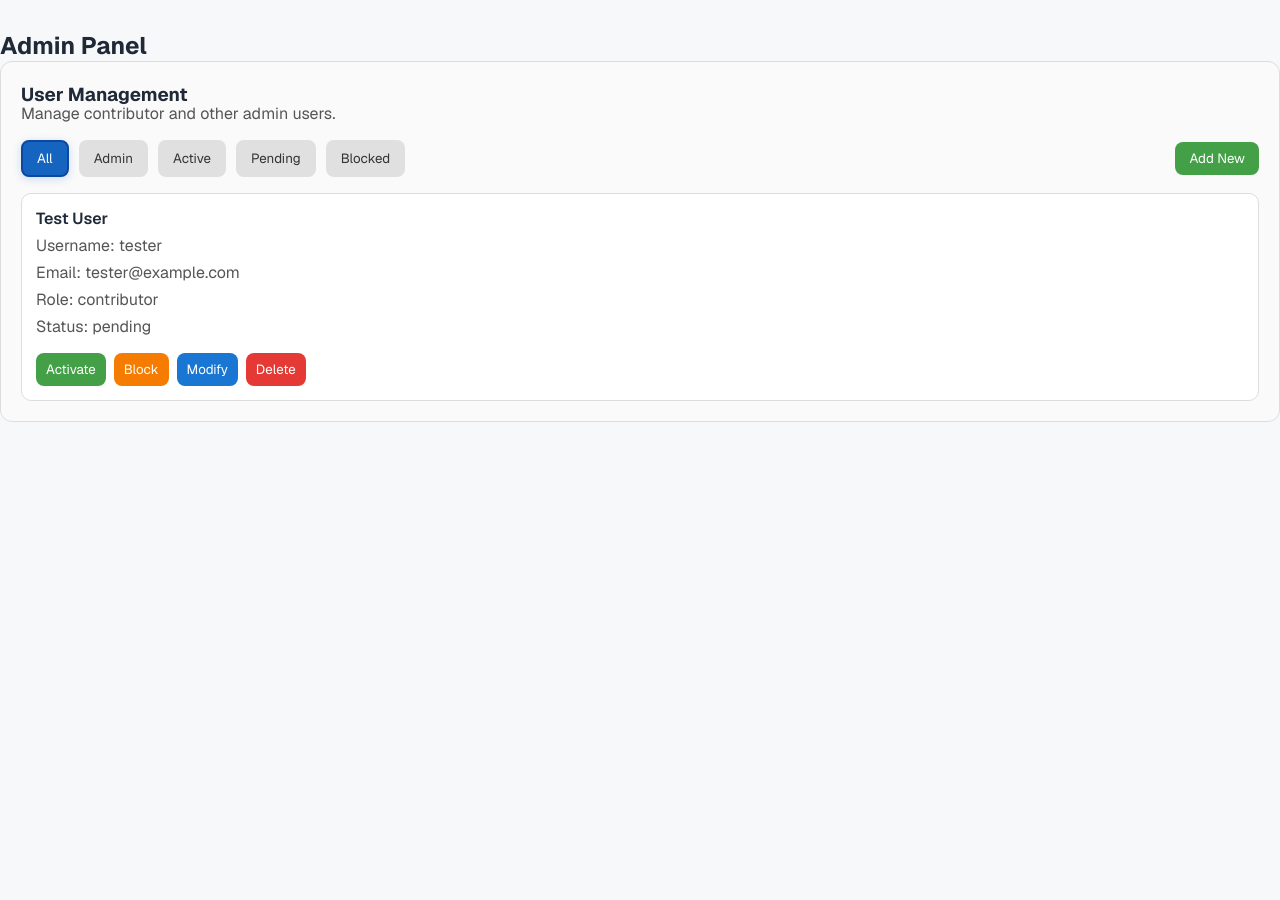
Test: AdminPanel collection controls › renders activate, deactivate, modify, and delete controls for users
Expected: the button "Activate" is shown, [36,353,106,386]
Expected: the button "Block" is shown, [114,353,169,386]
Click the button "Modify" at (207,370), box [177,353,238,386]
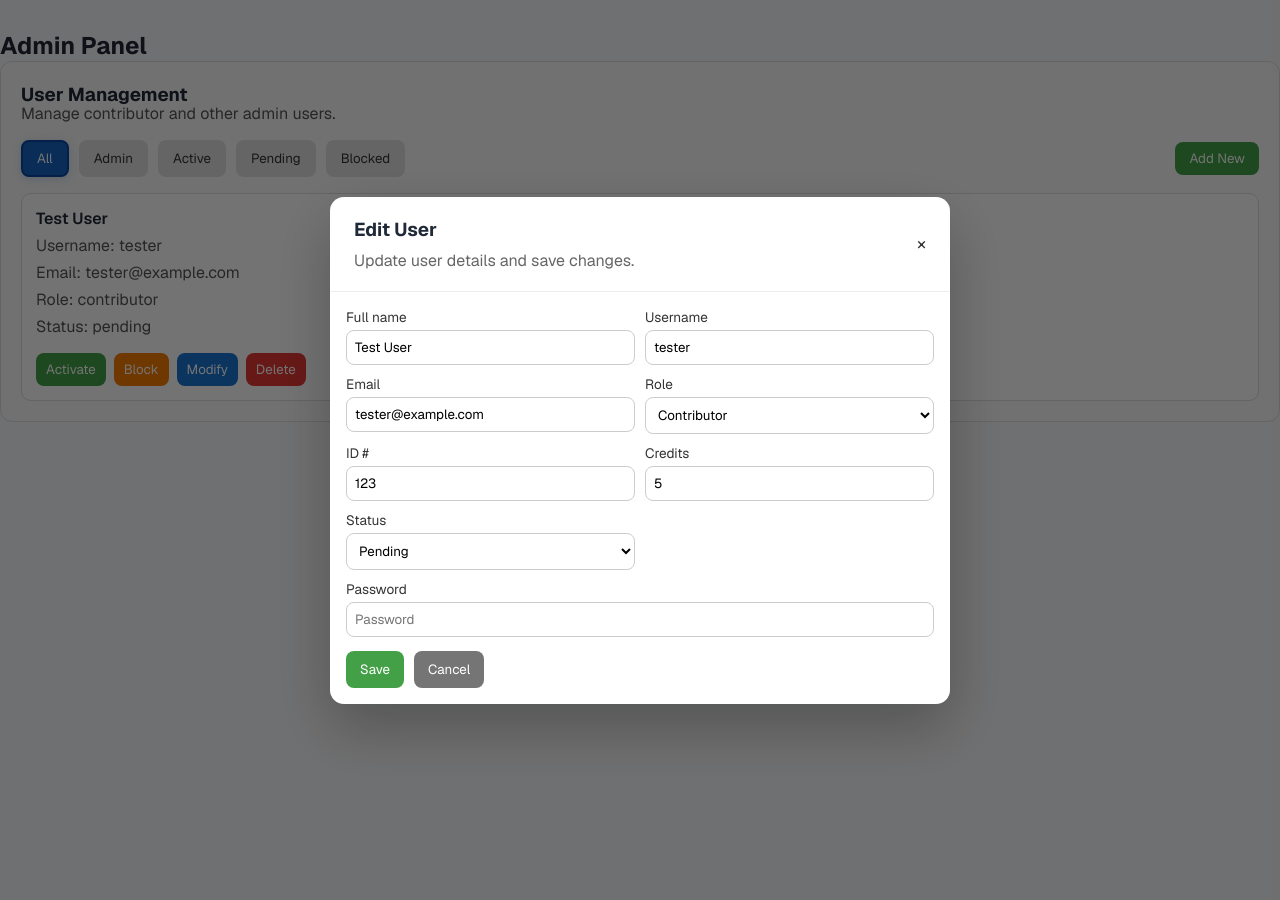
Result: the field with placeholder "Full name" is shown at [346,330,635,364]
Result: the field with placeholder "Username" is shown at [645,330,934,364]
Result: the button "Save" is shown at [346,650,404,688]
